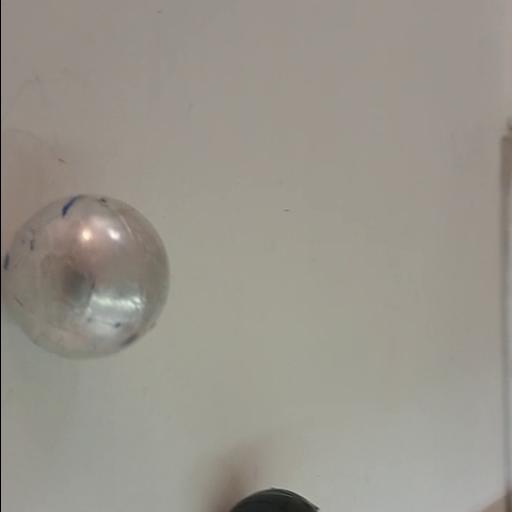alive: (1, 192, 174, 366)
dead: (226, 489, 324, 512)
